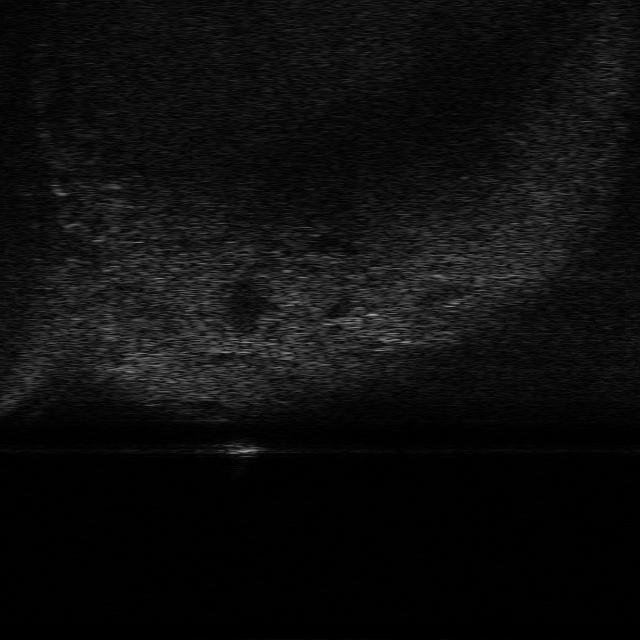cube: (208, 436, 266, 460)
